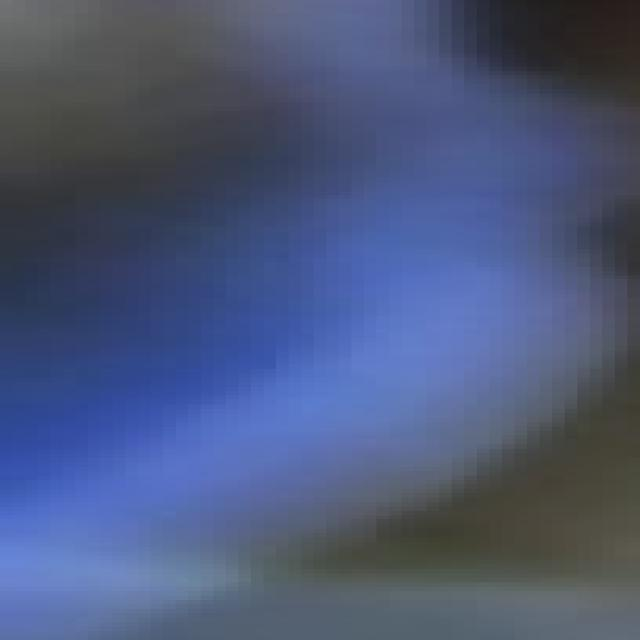fish: (12, 1, 640, 636)
